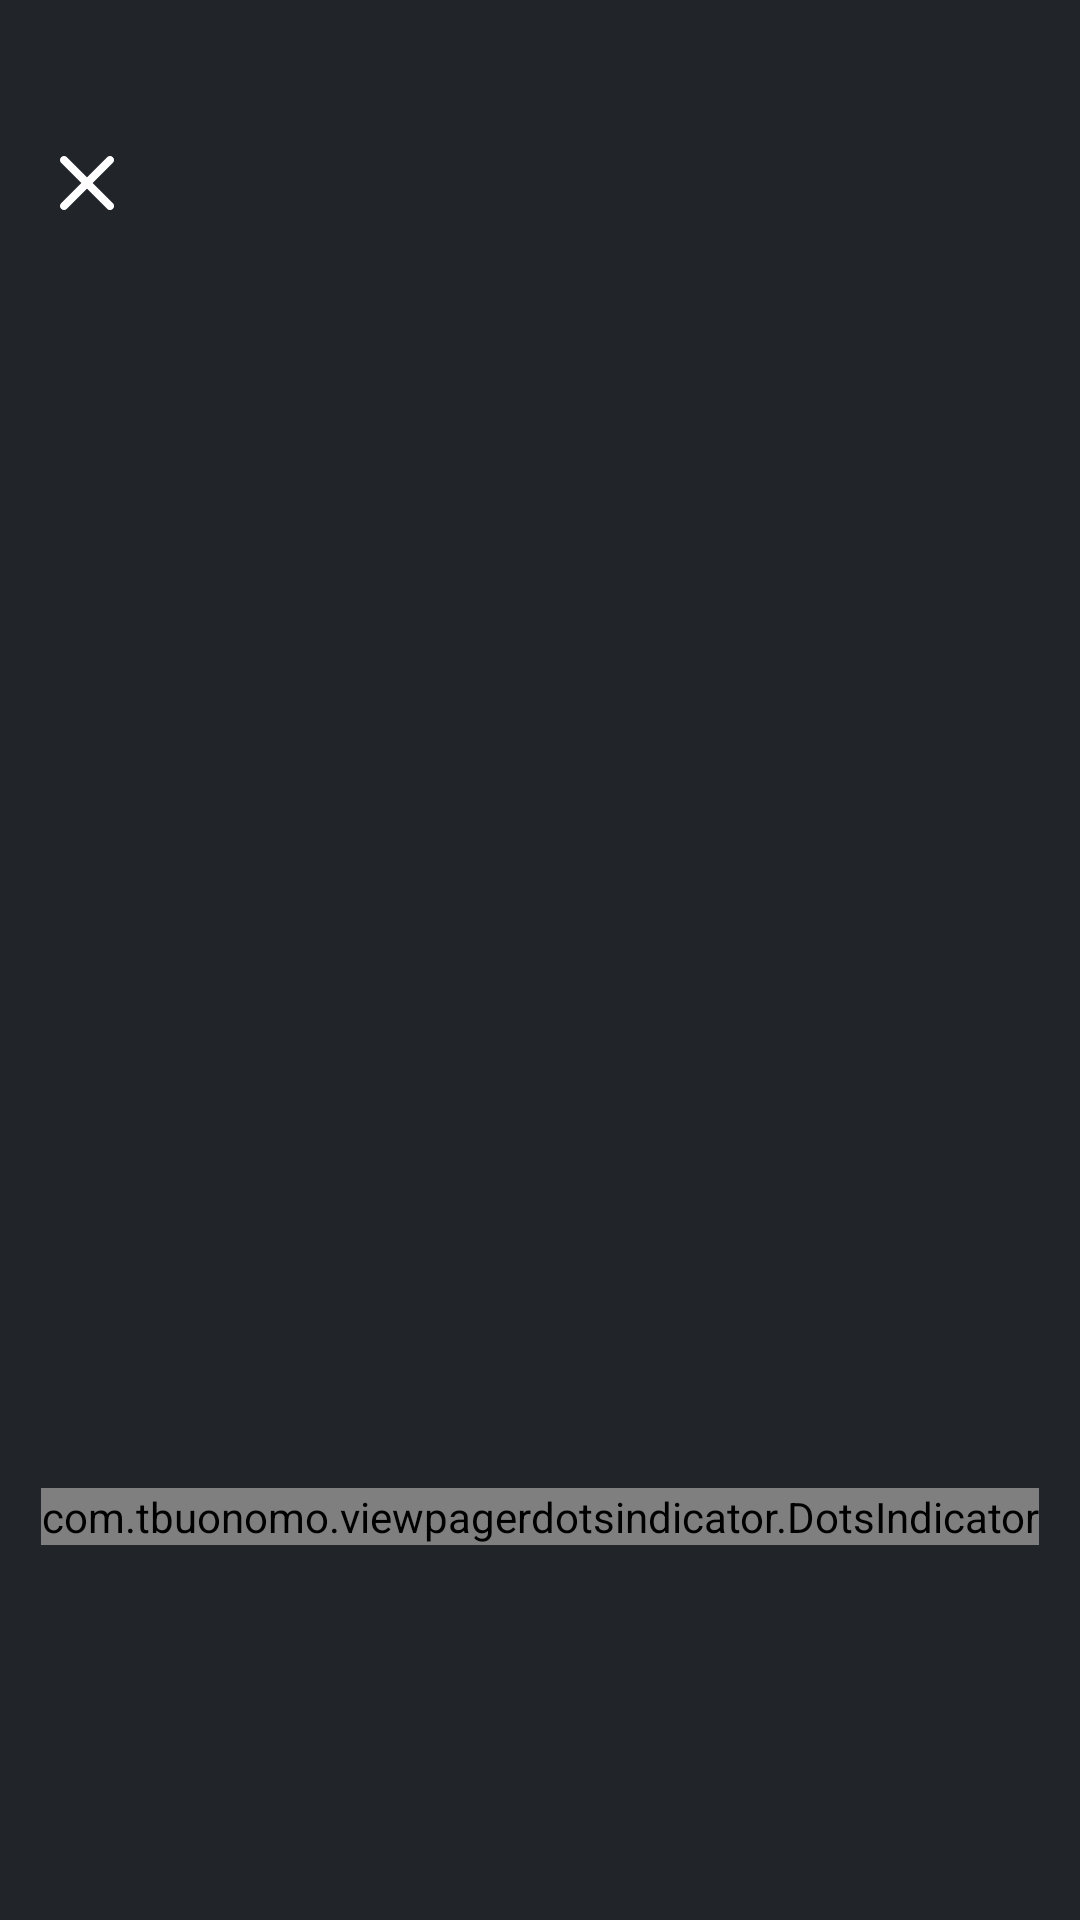

Icon bounding boxes for this 1080×1920 phone screenshot, format (x1, y1, x2, y2):
close: (60, 156, 114, 210)
